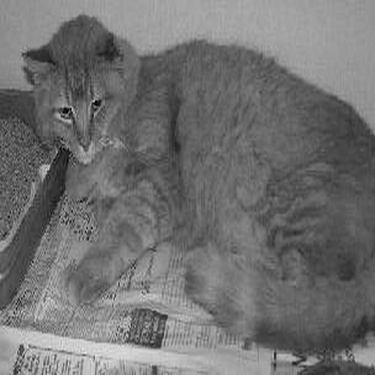cat: (16, 13, 371, 348)
